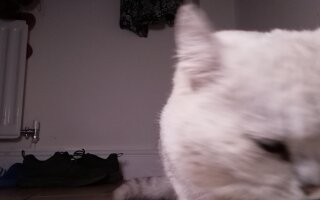bad: (156, 4, 318, 197)
